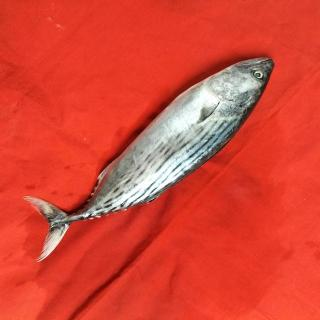Ikan: (31, 49, 273, 267)
